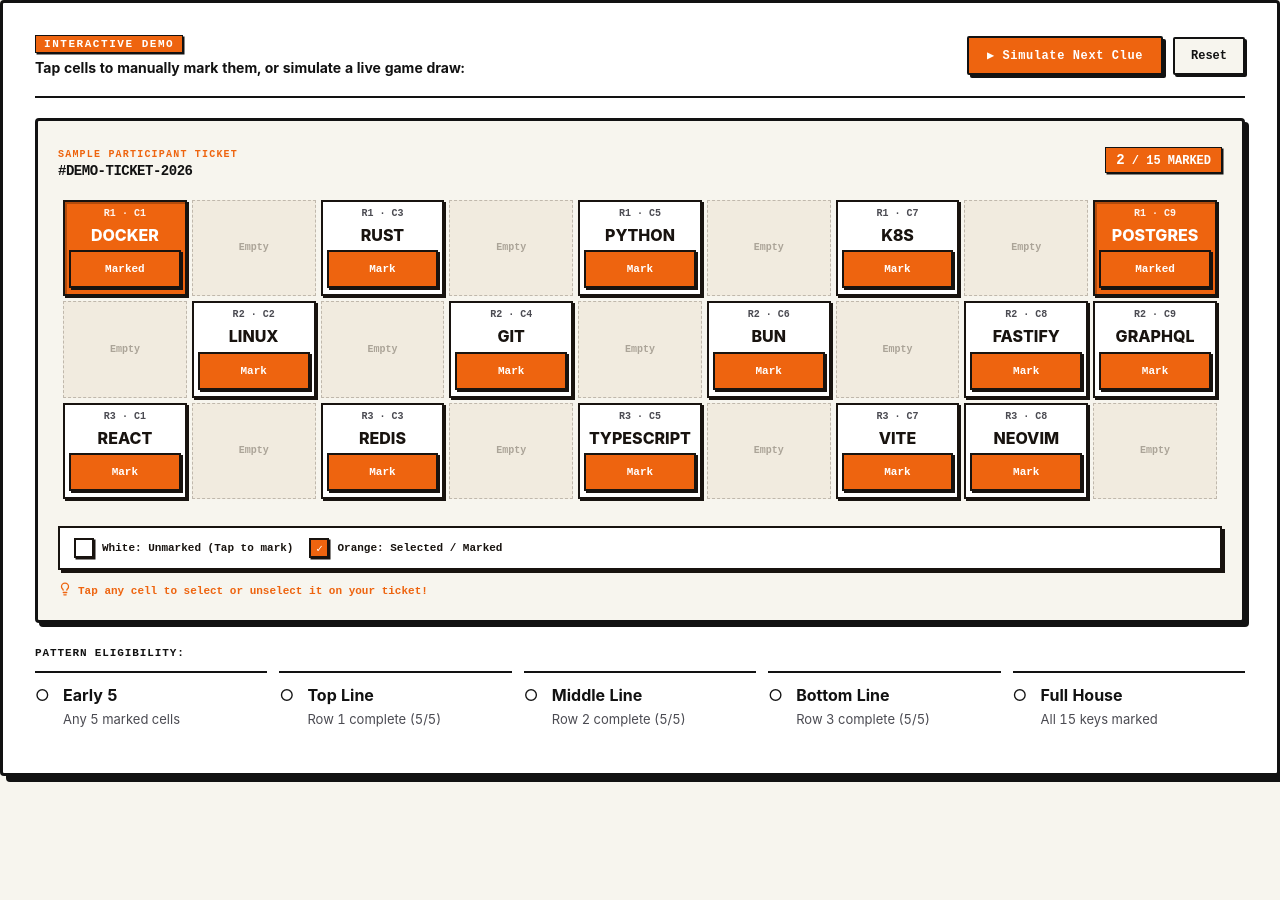
Test: SampleTicketDemo › allows tapping cells to toggle markings and tracks total count
Expected: the text "2" is shown, x1=1116 y1=152 x2=1125 y2=168
Click the button with aria-label "RUST". click: (382, 269)
box: x1=326 y1=250 x2=438 y2=288
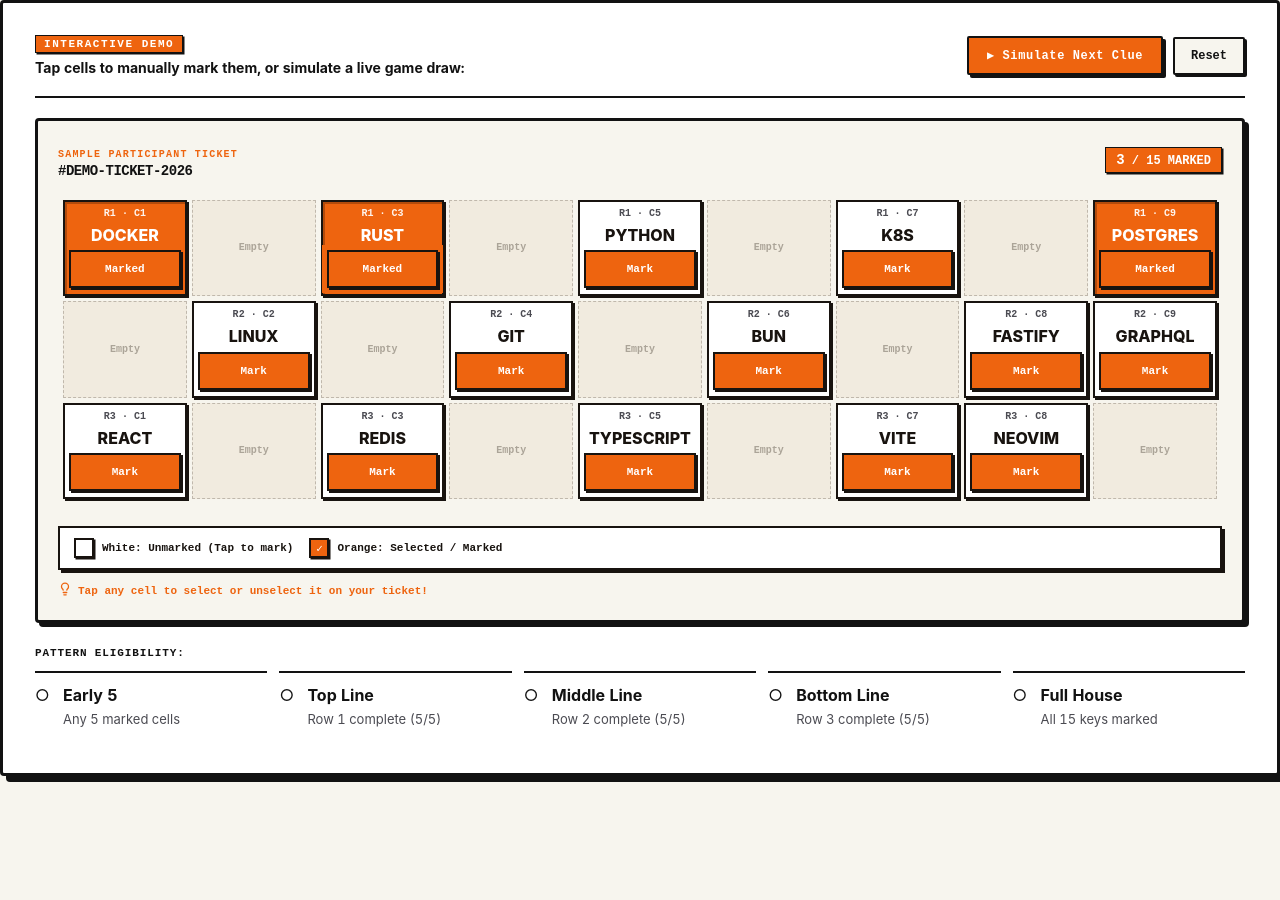
Result: the text "3" is shown at x1=1116 y1=152 x2=1125 y2=168
Click again to unmark
Click the button with aria-label "RUST". click: (382, 269)
box: x1=326 y1=250 x2=438 y2=288
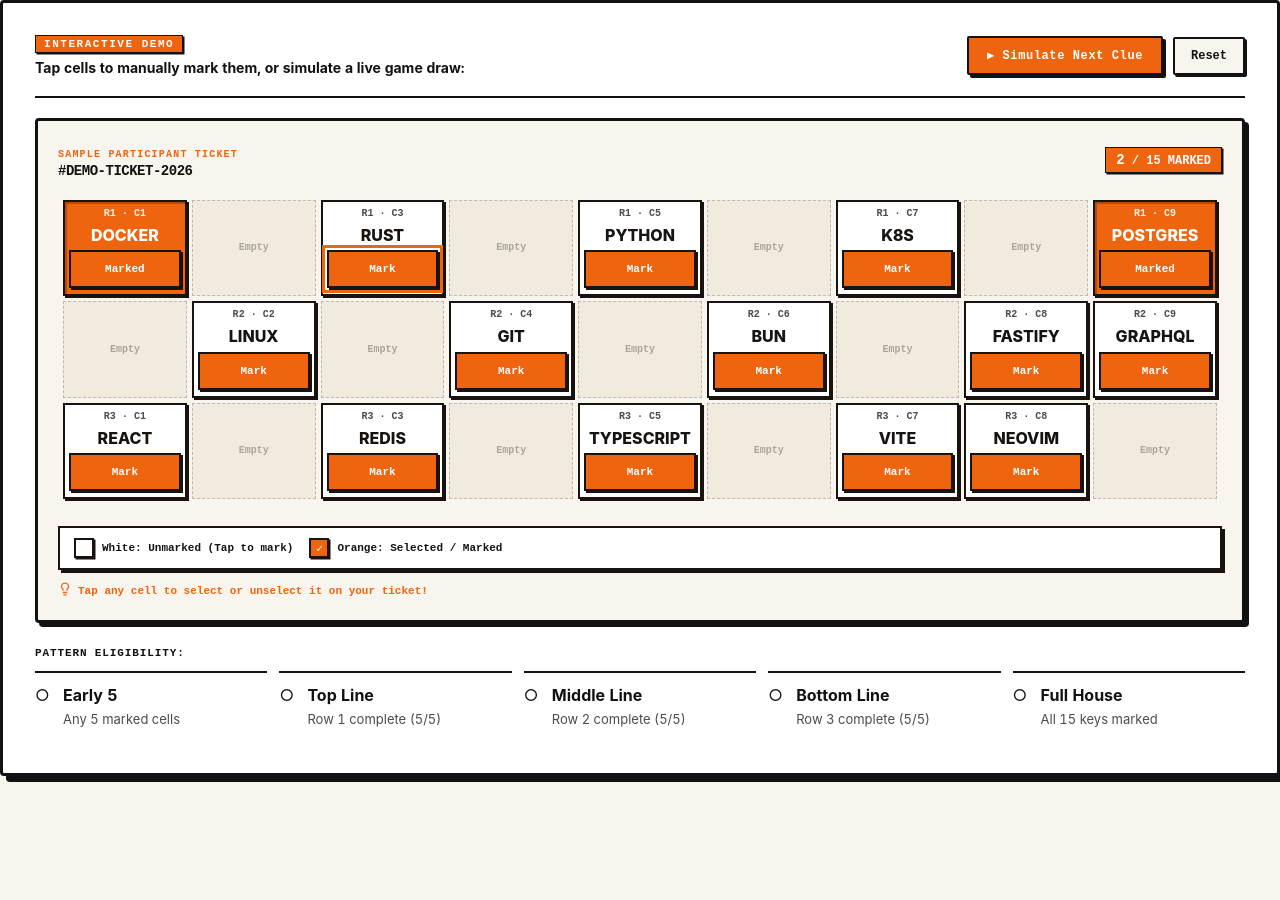
Result: the text "2" is shown at x1=1116 y1=152 x2=1125 y2=168
